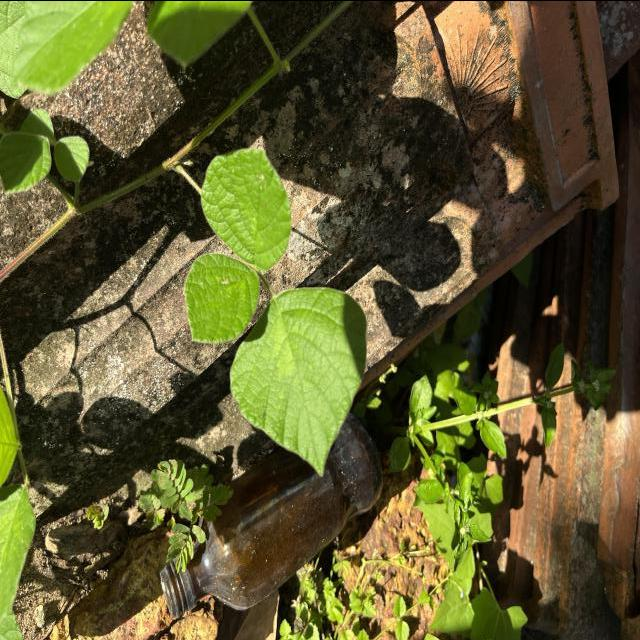Pseudarthria viscida: (180, 135, 368, 478)
